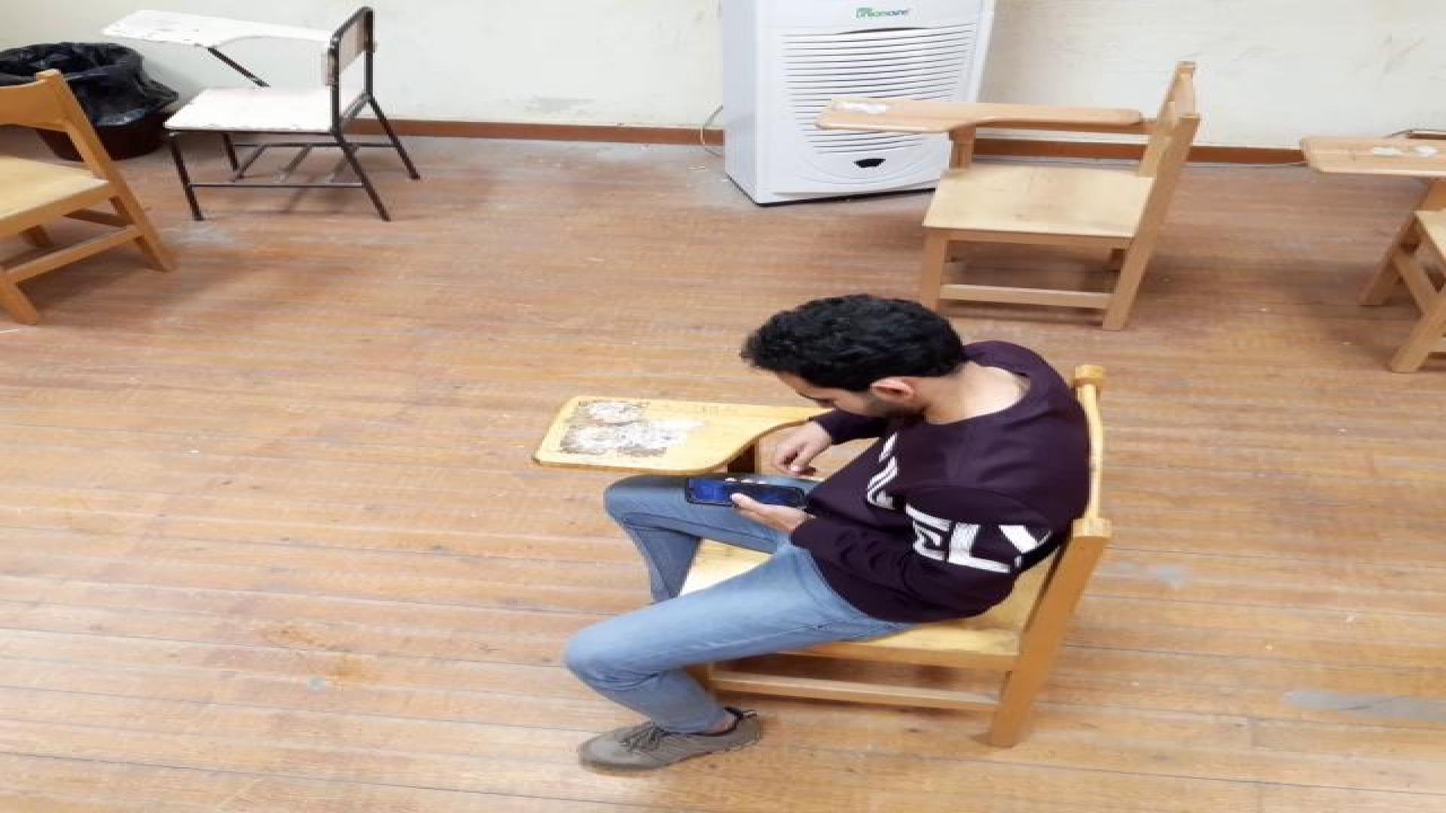phone: (683, 479, 803, 507)
